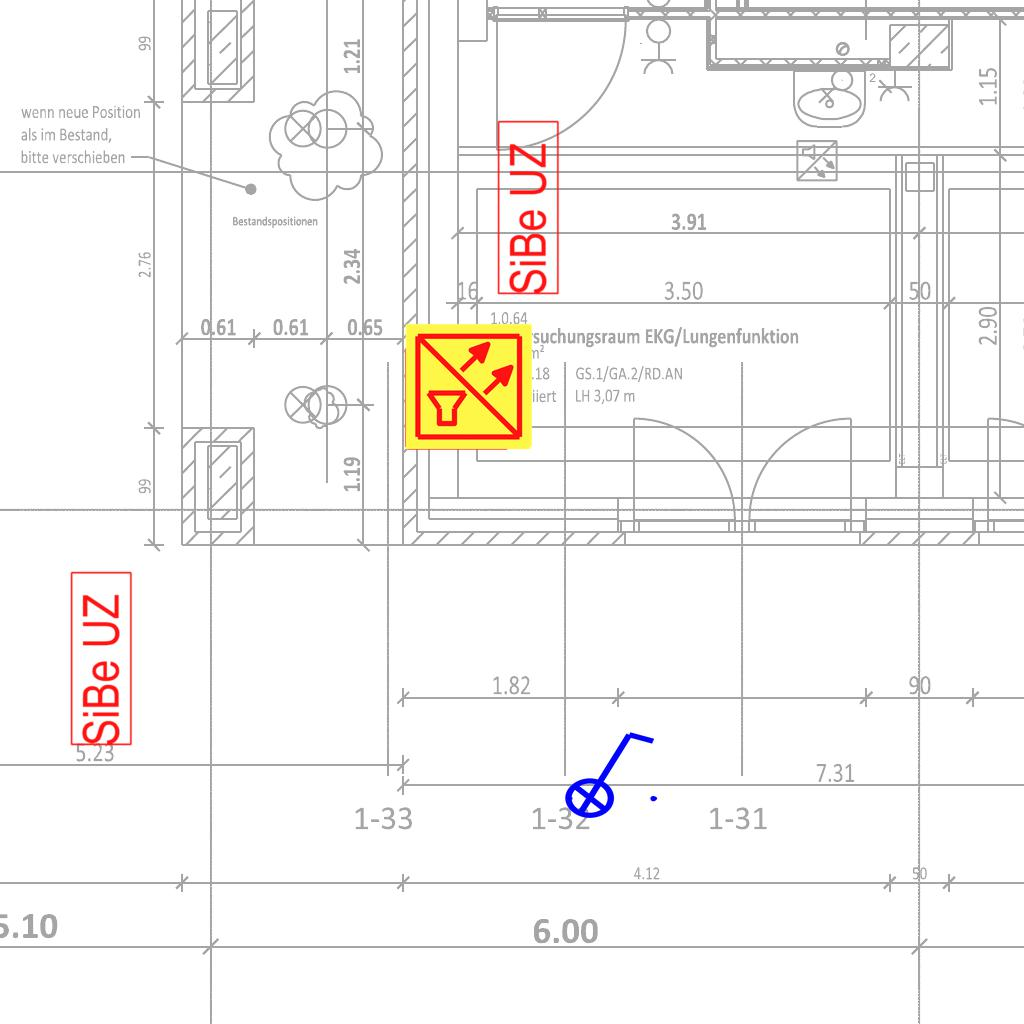Ausschalter_beleuchtet: (551, 724, 663, 820)
OKW_Multisensormelder_(Kombination_optischer_Rauch-Kahlenmonoxid_Waerme-Melder): (403, 321, 535, 453)
Zentrale_Sicherheitsbeleuchtung: (496, 118, 561, 296), (69, 569, 134, 747)
